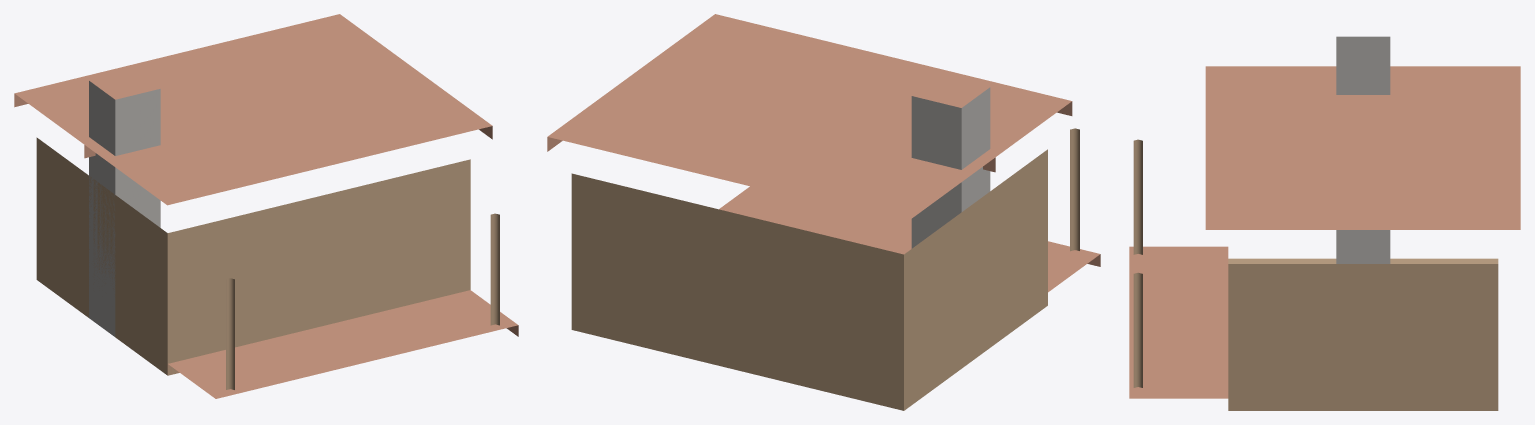
Rendered from cabin_station.glb.
The picture shows the model from 3 angles, left to right: view 1: azimuth 30°, elevation 25°; view 2: azimuth 150°, elevation 25°; view 3: azimuth 270°, elevation 25°; orthographic projection. The views are drawn at different scales.
Parts seen in each view (by area): view 1: Roof, Walls, Chimney; view 2: Walls, Roof, Chimney; view 3: Roof, Walls, Chimney.
Boxes of the visible parts, bbox=[...] form: Roof: bbox=[14, 14, 518, 398]; Walls: bbox=[36, 137, 499, 389]; Chimney: bbox=[89, 81, 160, 336]; Walls: bbox=[571, 128, 1079, 410]; Roof: bbox=[547, 14, 1100, 292]; Chimney: bbox=[911, 87, 990, 248]; Roof: bbox=[1129, 66, 1520, 398]; Walls: bbox=[1133, 139, 1498, 410]; Chimney: bbox=[1336, 36, 1390, 263].
Size of the model in its own units: 8.6 by 6 by 8.7.
